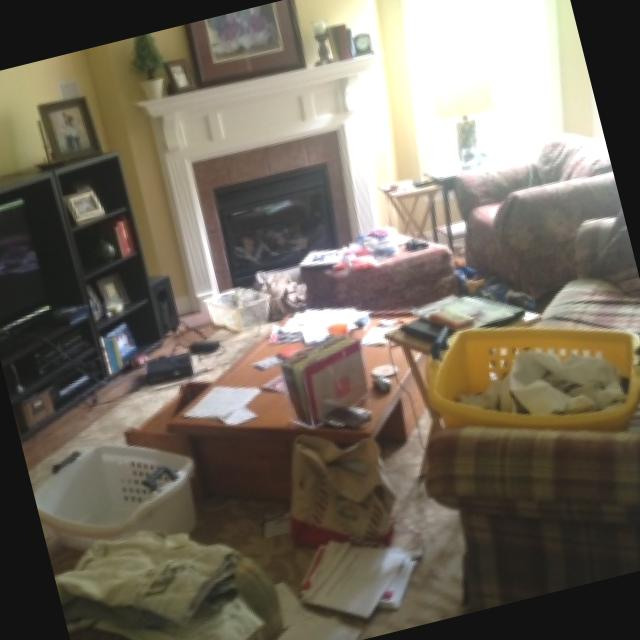mess: (14, 322, 466, 640), (370, 184, 640, 487), (82, 222, 470, 396), (0, 170, 76, 205)
